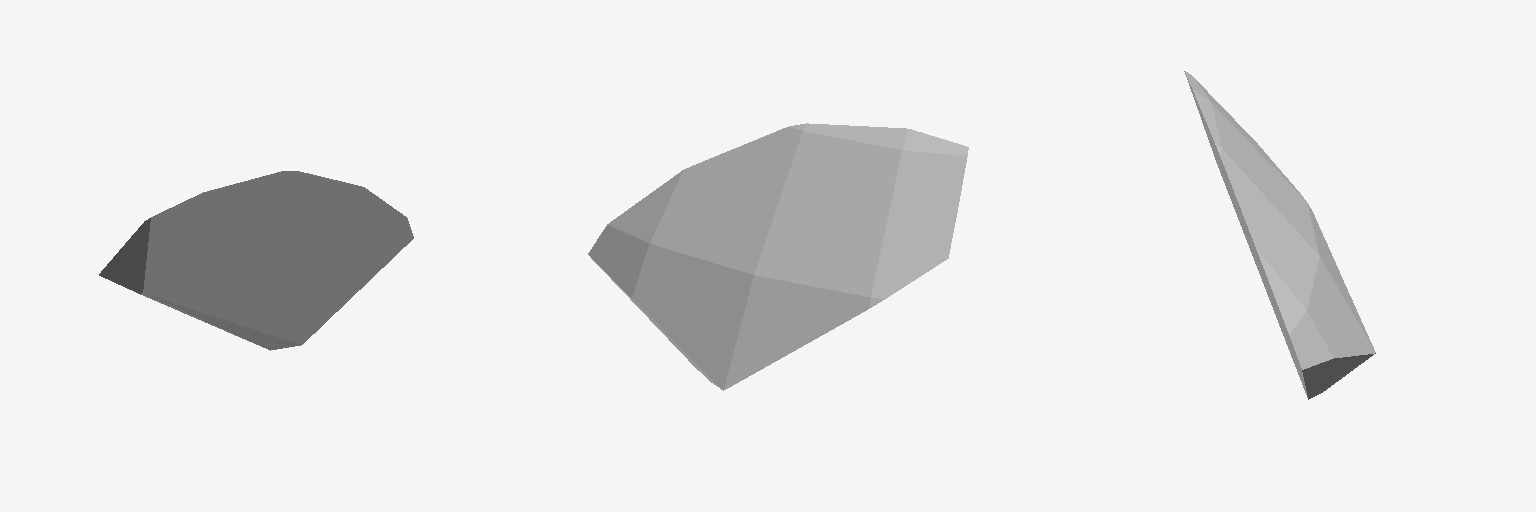
File: Sphere_Cell_Fracture10.obj
3 renders of one model, left to right at view 1: azimuth 30°, elevation 25°; view 2: azimuth 150°, elevation 25°; view 3: azimuth 270°, elevation 25°, orthographic.
Size of the model in its own units: 0.4961 by 0.3336 by 0.244.